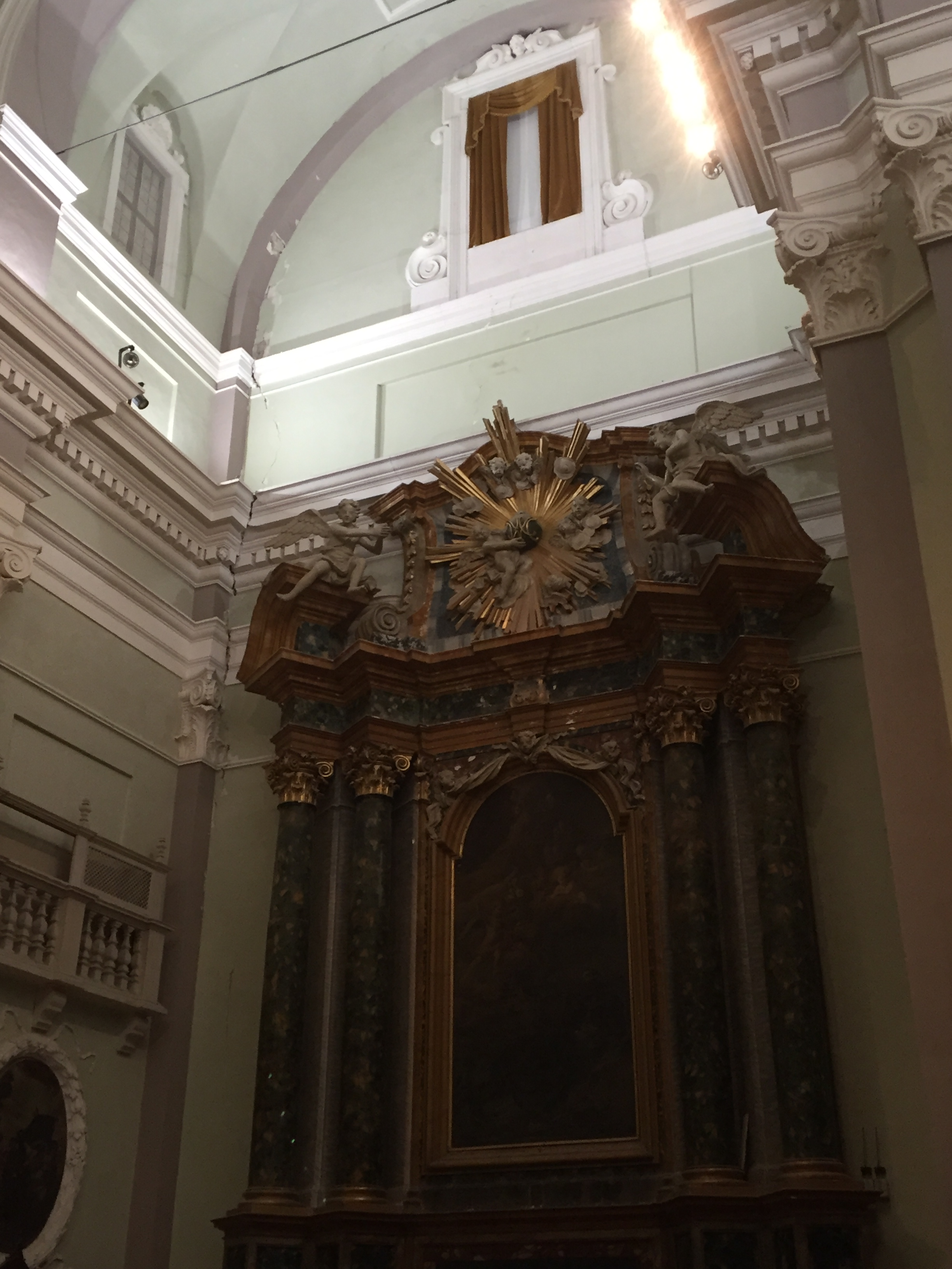Crack: (182, 260, 282, 839)
